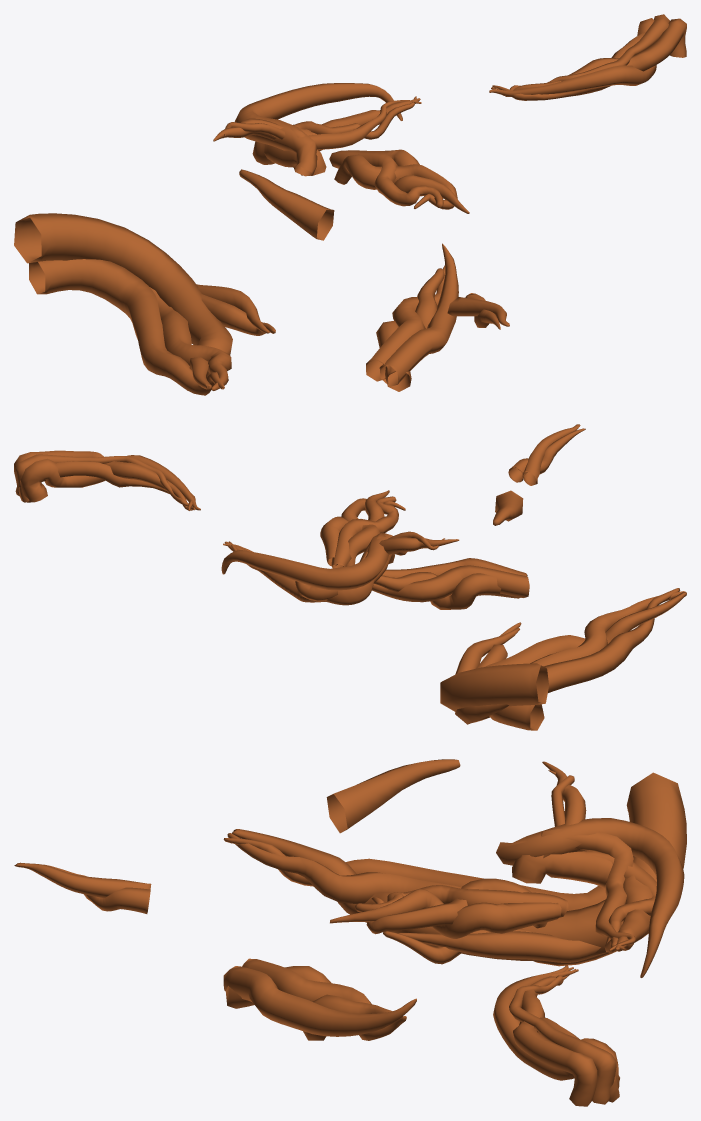
Rendered from branch_bridges.fbx.
3 renders of one model, top to bottom at view 1: azimuth 30°, elevation 25°; view 2: azimuth 150°, elevation 25°; view 3: azimuth 270°, elevation 25°, orthographic. The views are drawn at different scales.
Visible parts, largest first — view 1: bridge_1, bridge_5, bridge_3, bridge_2, BezierCurve.033, bridge_7, bridge_6; view 2: bridge_1, bridge_5, bridge_2, bridge_3, BezierCurve.033, bridge_6, bridge_7; view 3: bridge_1, bridge_5, bridge_3, BezierCurve.033, bridge_2, bridge_7, bridge_6.
Boxes of the visible parts, <box> form: bridge_1: <box>14,213,275,395</box>; bridge_5: <box>213,83,421,176</box>; bridge_3: <box>366,243,458,391</box>; bridge_2: <box>489,14,686,100</box>; BezierCurve.033: <box>329,149,469,213</box>; bridge_7: <box>239,169,334,240</box>; bridge_6: <box>447,293,509,329</box>; bridge_1: <box>440,588,686,730</box>; bridge_5: <box>221,531,459,605</box>; bridge_2: <box>14,450,200,510</box>; bridge_3: <box>372,558,529,609</box>; BezierCurve.033: <box>320,490,405,568</box>; bridge_6: <box>508,424,585,485</box>; bridge_7: <box>493,490,523,525</box>; bridge_1: <box>223,772,686,966</box>; bridge_5: <box>496,761,684,977</box>; bridge_3: <box>223,958,416,1040</box>; BezierCurve.033: <box>330,878,568,938</box>; bridge_2: <box>493,965,619,1106</box>; bridge_7: <box>326,759,460,833</box>; bridge_6: <box>14,862,151,913</box>.
Size of the model in its own units: 5172 by 1487 by 3897.
